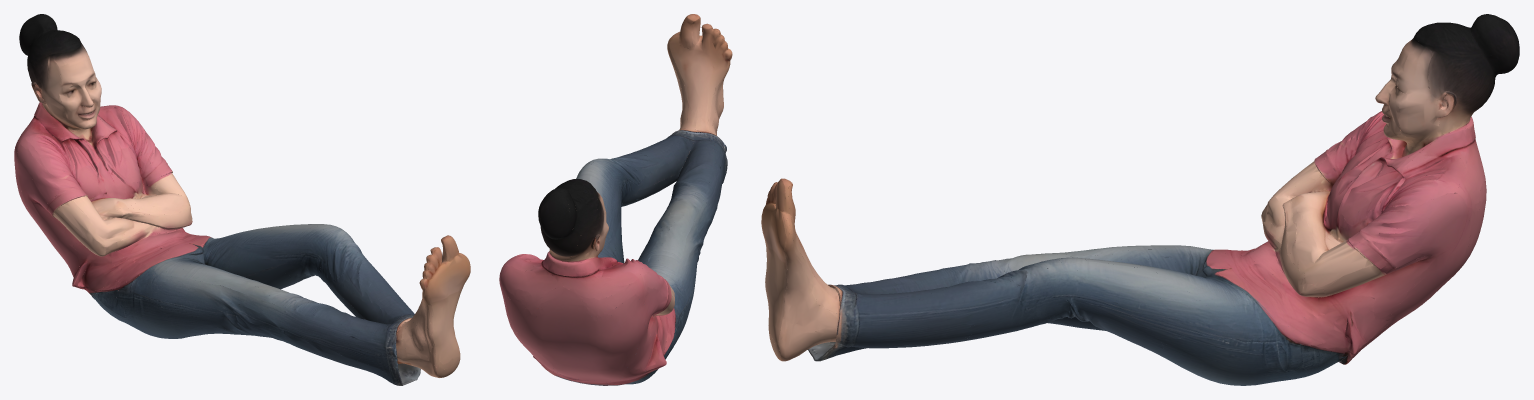
The model's file is Yujie.glb.
3 views of the same model, side by side, from view 1: azimuth 30°, elevation 25°; view 2: azimuth 150°, elevation 25°; view 3: azimuth 270°, elevation 25° (orthographic). The views are drawn at different scales.
Visible parts, largest first — view 1: Yujie; view 2: Yujie; view 3: Yujie.
Boxes of the visible parts, <box> form: Yujie: <box>14,14,470,385</box>; Yujie: <box>499,14,732,385</box>; Yujie: <box>761,14,1519,385</box>.
Bounding box in the file's own units: 0.4697 × 0.5217 × 1.09.
Materials: 1 (1 with a texture image).
